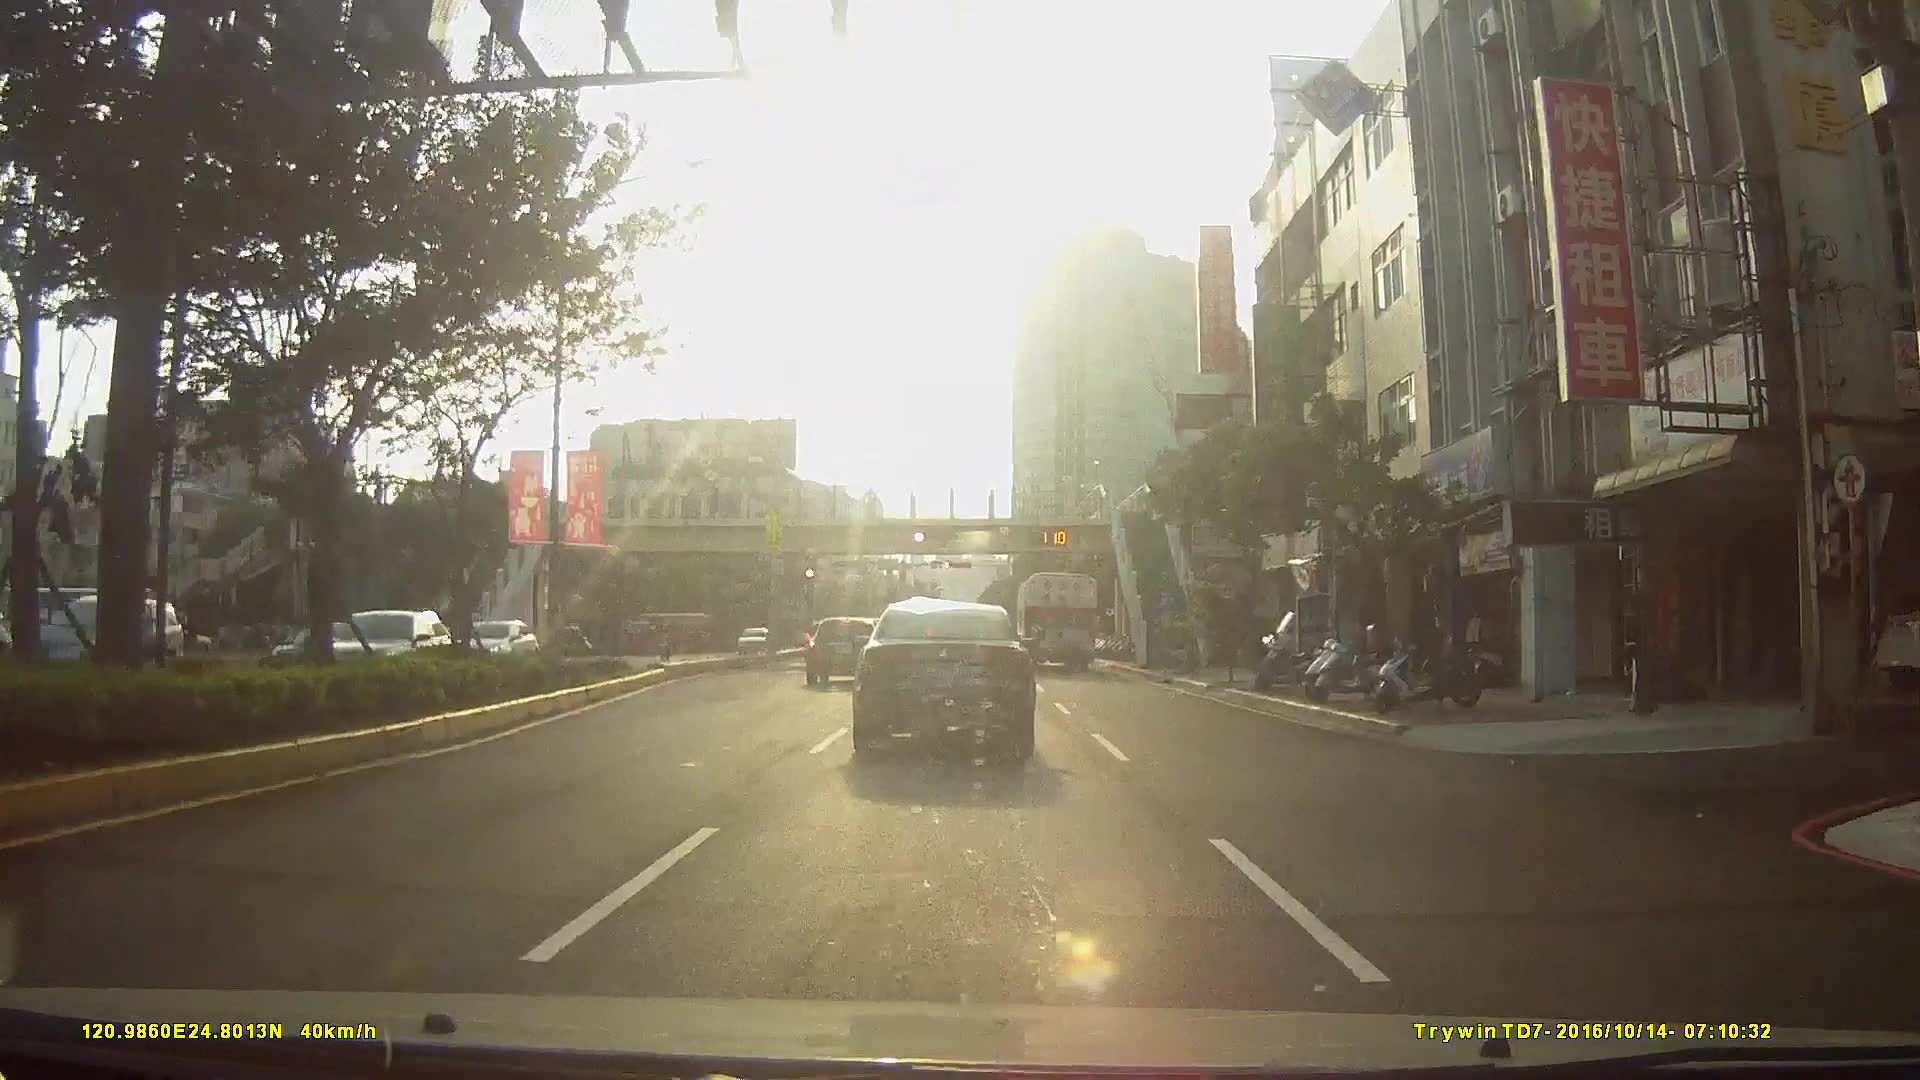vehicle: (851, 597, 1036, 756), (26, 584, 179, 673), (1013, 564, 1102, 669), (802, 613, 880, 687), (735, 622, 771, 651)
